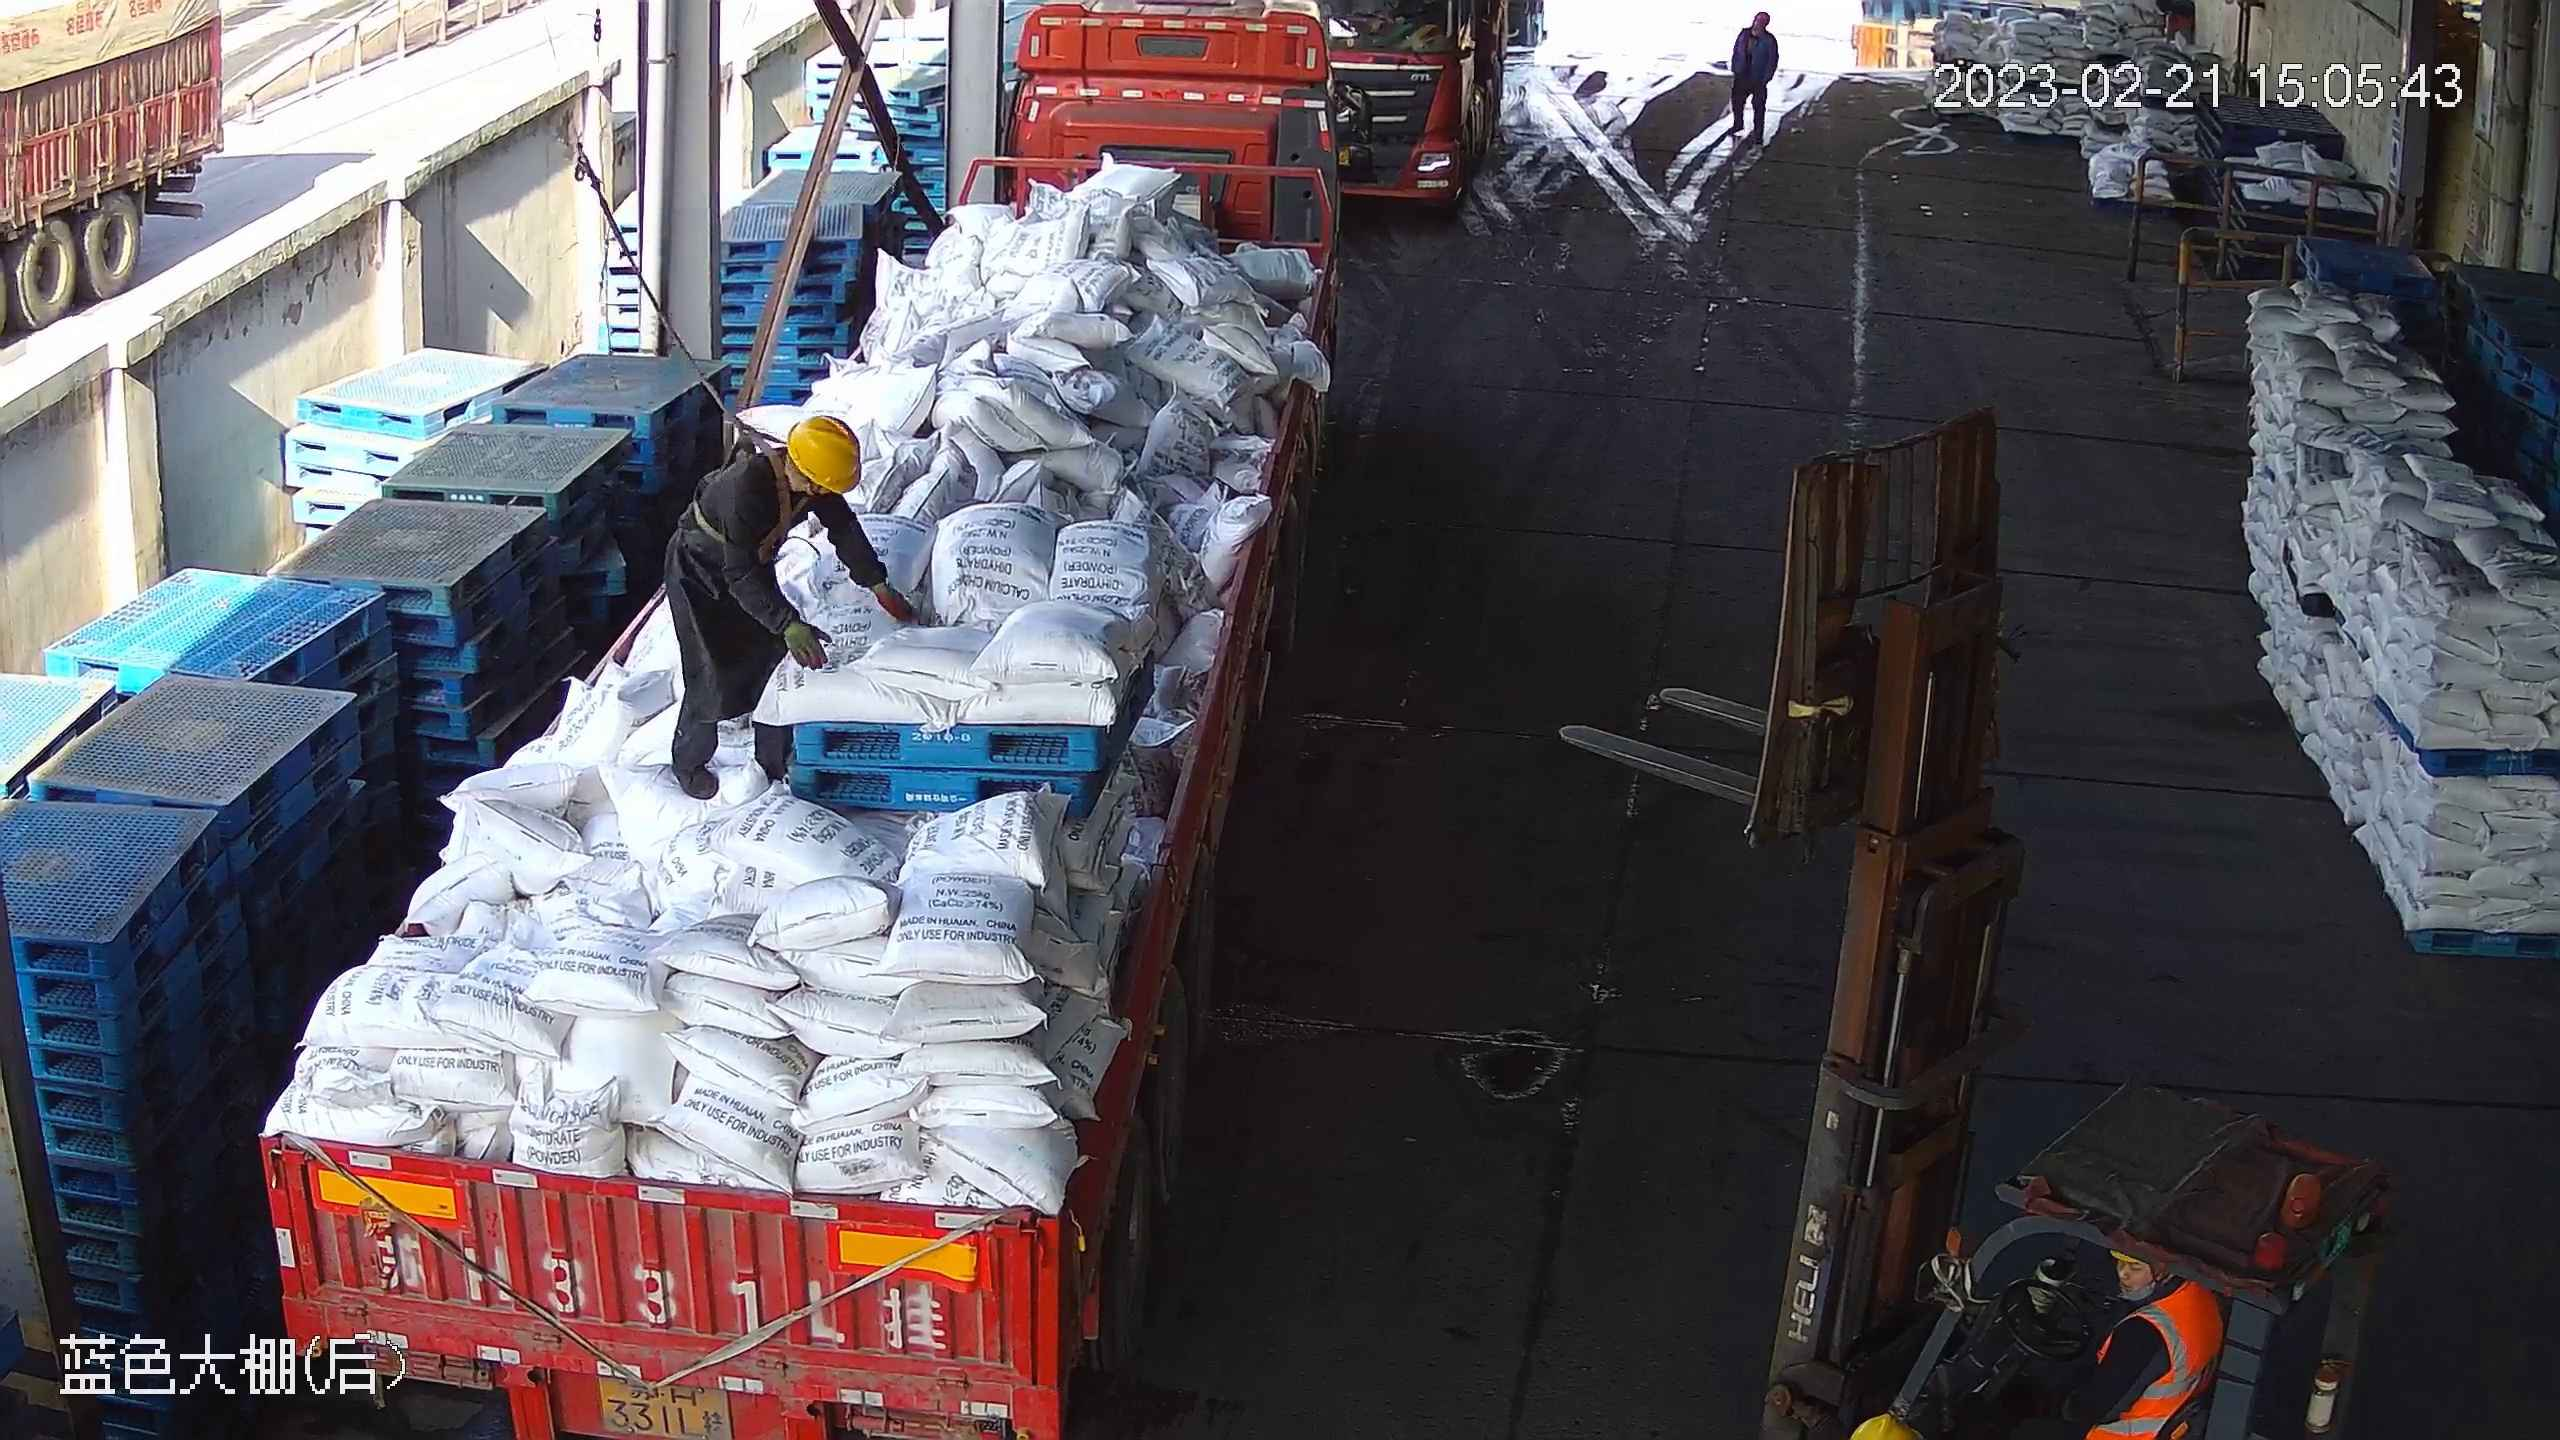belt: (691, 415, 801, 562)
head: (2076, 1245, 2221, 1411), (721, 408, 866, 549), (1733, 8, 1778, 53)
helmet: (786, 415, 860, 496), (1754, 11, 1772, 23)
people: (660, 409, 919, 805), (1721, 9, 1779, 149)
truck: (251, 1, 1370, 1436), (1318, 1, 1546, 225)
